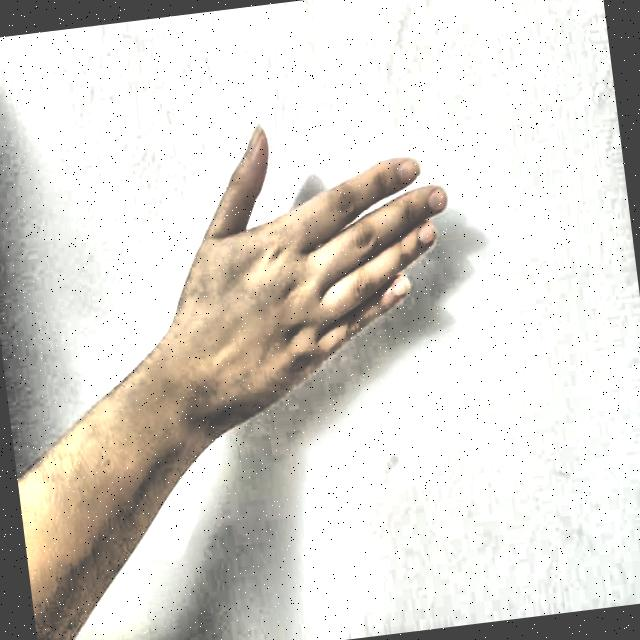Aa: (124, 66, 504, 472)
